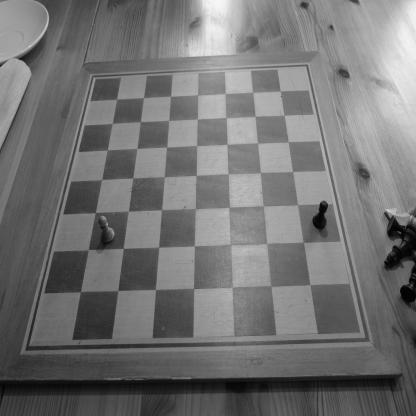black-bishop: (383, 228, 415, 269)
black-pawn: (312, 200, 329, 229)
white-knight: (383, 207, 415, 230)
white-pawn: (98, 215, 115, 244)
